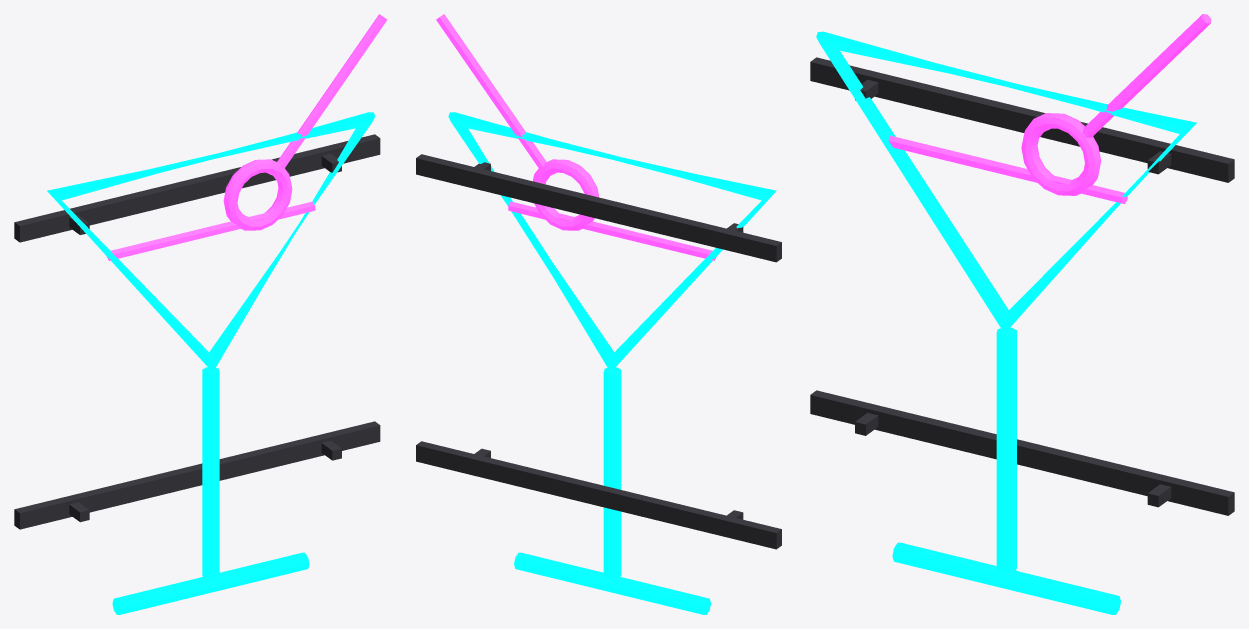
File: KIT_Placa_Drink.glb
3 views of the same model, side by side, from view 1: azimuth 30°, elevation 25°; view 2: azimuth 150°, elevation 25°; view 3: azimuth 330°, elevation 25° (orthographic). The views are drawn at different scales.
Visible parts, largest first — view 1: KIT_Placa_Drink; view 2: KIT_Placa_Drink; view 3: KIT_Placa_Drink.
Part boxes in pixels (x1=…): KIT_Placa_Drink: x1=14, y1=14, x2=387, y2=614; KIT_Placa_Drink: x1=416, y1=14, x2=781, y2=614; KIT_Placa_Drink: x1=810, y1=14, x2=1234, y2=614.
Bounding box in the file's own units: 0.46 × 0.6539 × 0.046.
